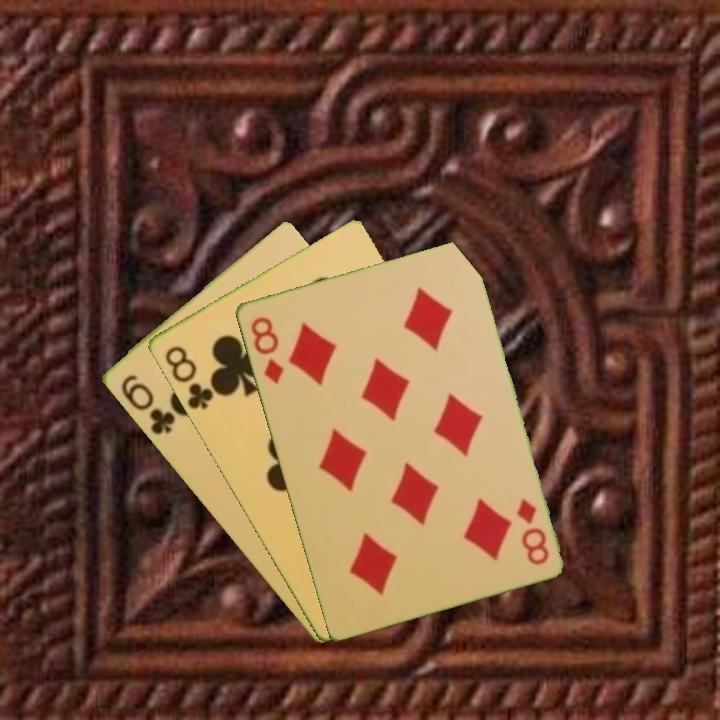6c: (116, 371, 178, 438)
8c: (160, 342, 219, 413)
8d: (246, 313, 286, 387), (512, 494, 552, 568)
